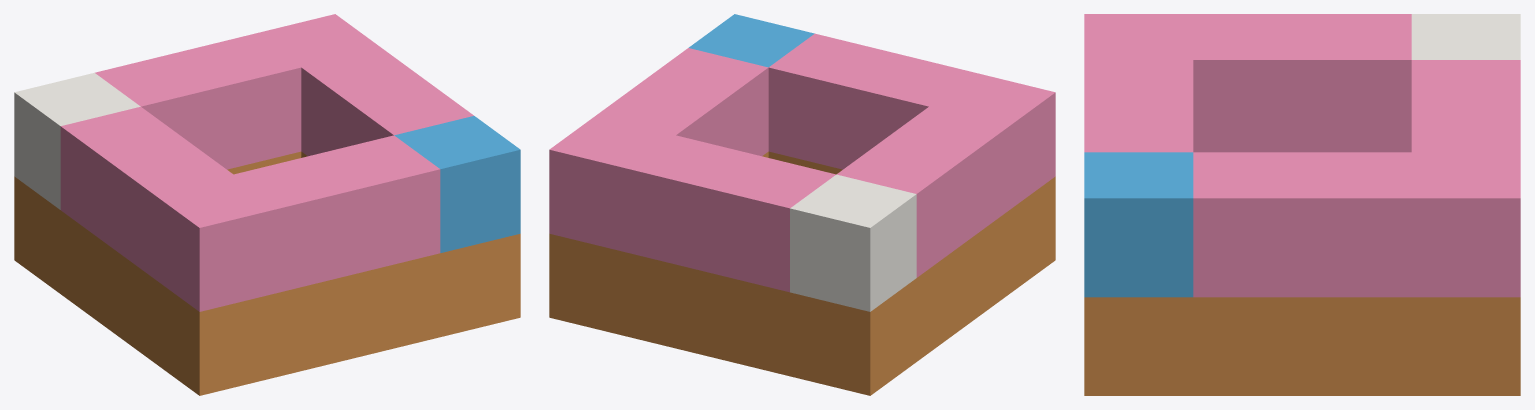
Rendered from donut.glb.
3 renders of one model, left to right at view 1: azimuth 30°, elevation 25°; view 2: azimuth 150°, elevation 25°; view 3: azimuth 270°, elevation 25°, orthographic. The views are drawn at different scales.
Visible parts, largest first — view 1: donut; view 2: donut; view 3: donut.
Boxes of the visible parts, x1,y1,x2,y2 form: donut: (14,14,520,395); donut: (549,14,1055,395); donut: (1084,14,1520,395).
Size of the model in its own units: 0.2 by 0.1 by 0.2.
Materials: 1 (1 with a texture image).
